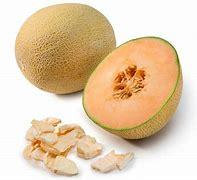Melon Ripe: (84, 37, 183, 139), (16, 3, 117, 95)
